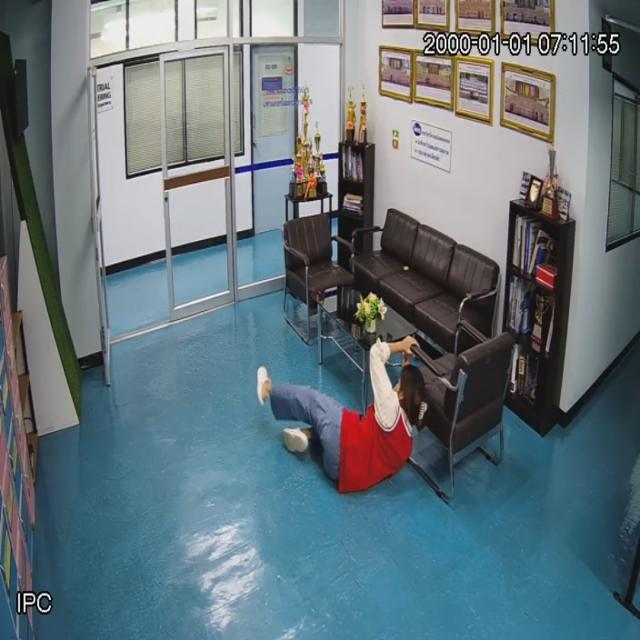fall: (256, 356, 426, 496)
